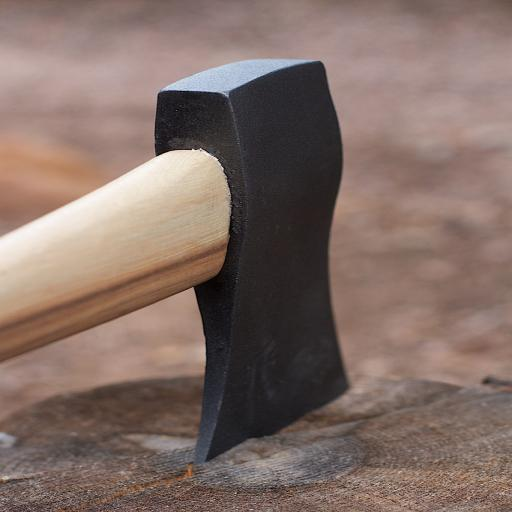Axe: (0, 54, 359, 459)
